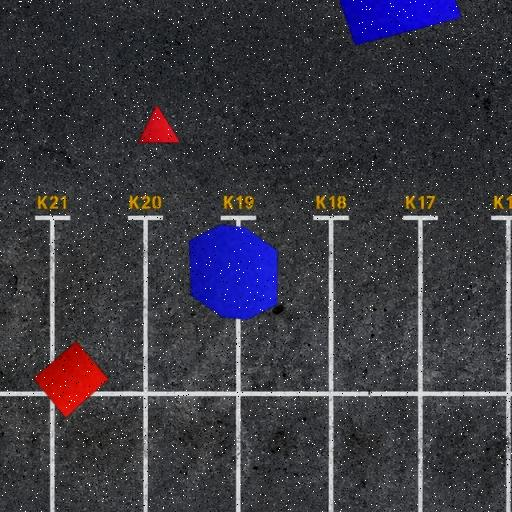RED_SQUARE: (32, 341, 110, 418)
